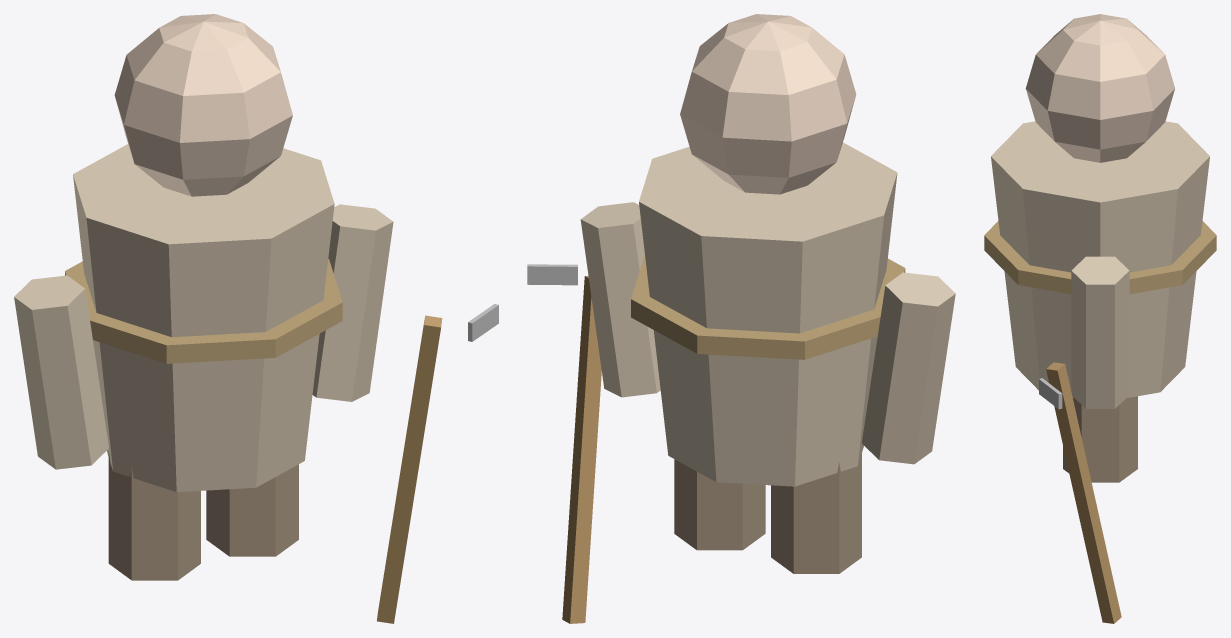
The model's file is farmer.glb.
3 views of the same model, side by side, from view 1: azimuth 30°, elevation 25°; view 2: azimuth 150°, elevation 25°; view 3: azimuth 270°, elevation 25° (orthographic). The views are drawn at different scales.
Parts seen in each view (by area): view 1: farmer; view 2: farmer; view 3: farmer.
Part boxes in pixels (x1=…): farmer: x1=14, y1=14, x2=498, y2=623; farmer: x1=527, y1=14, x2=955, y2=623; farmer: x1=984, y1=14, x2=1216, y2=623.
Bounding box in the file's own units: 0.5066 × 0.6989 × 0.28.
